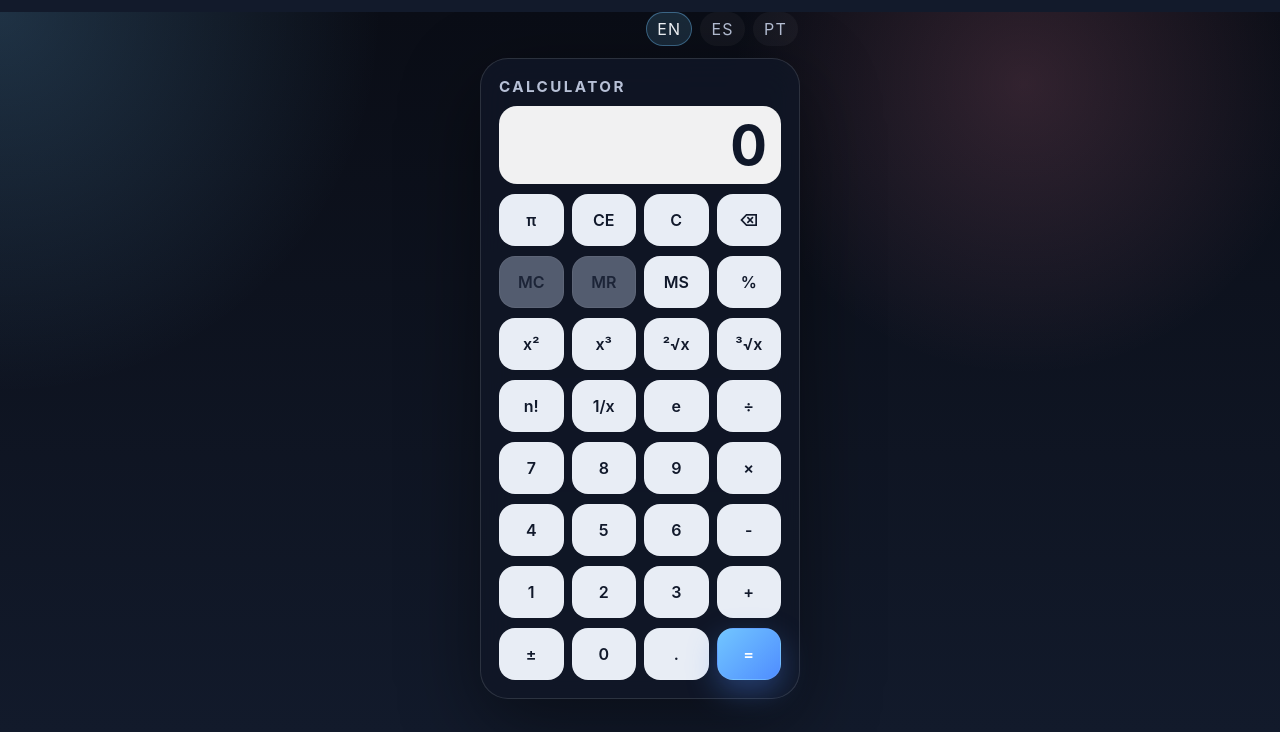
Calculator › supports memory store, recall, and clear
Step 1. Click the button "7" → point(531, 468), box [499,442,564,494]
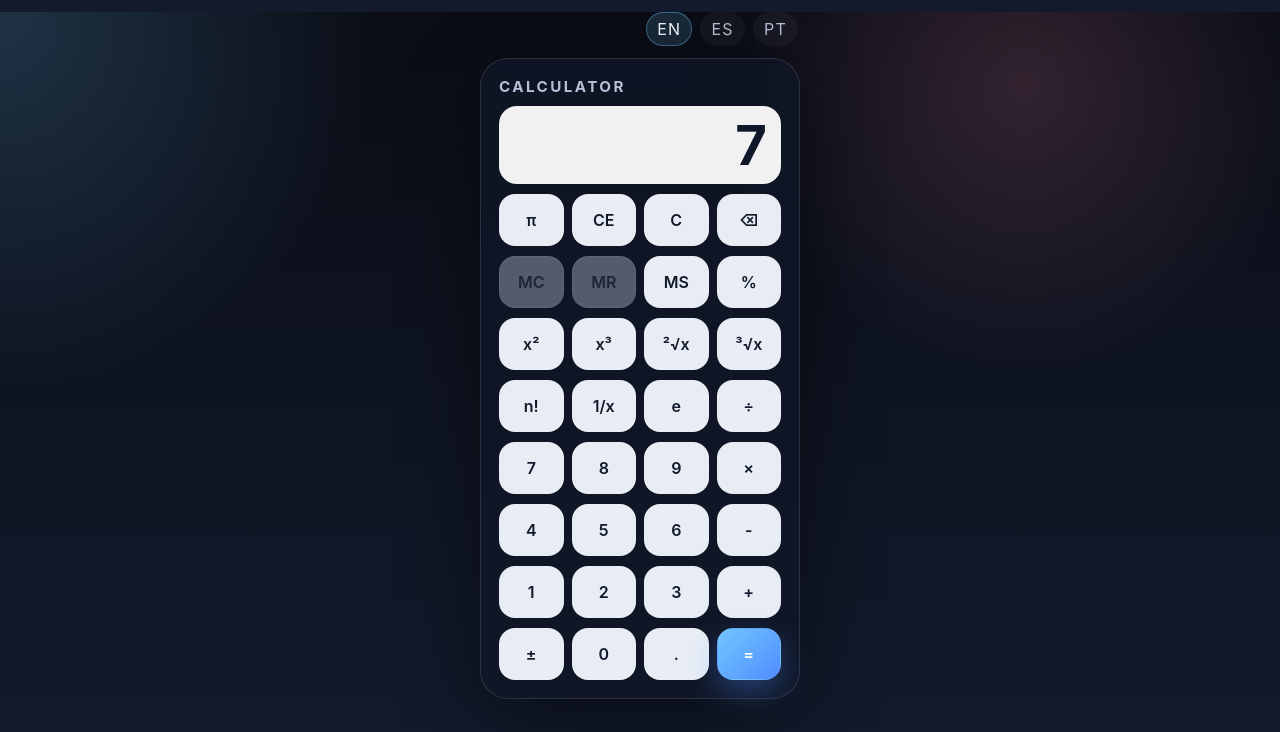
Step 2. Click the button "MS" → point(676, 282), box [644,256,708,308]
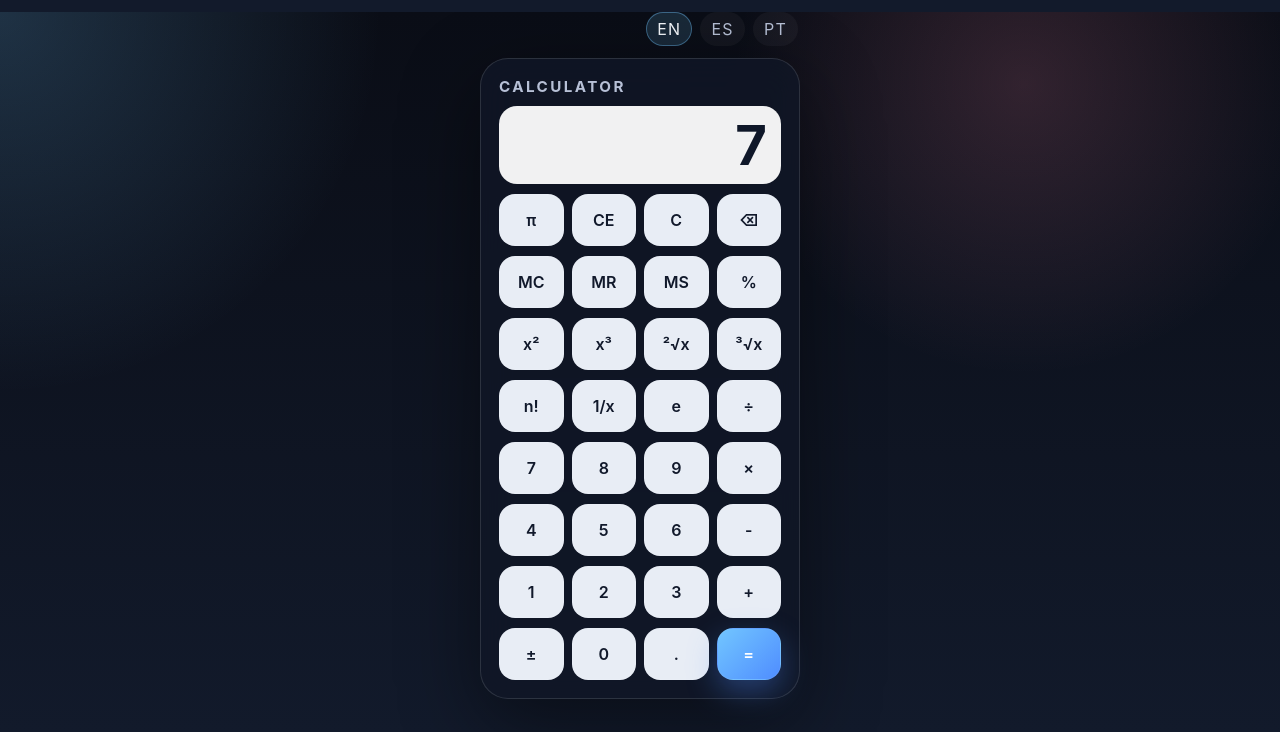
Step 3. Click the button "C" → point(676, 220), box [644,194,708,246]
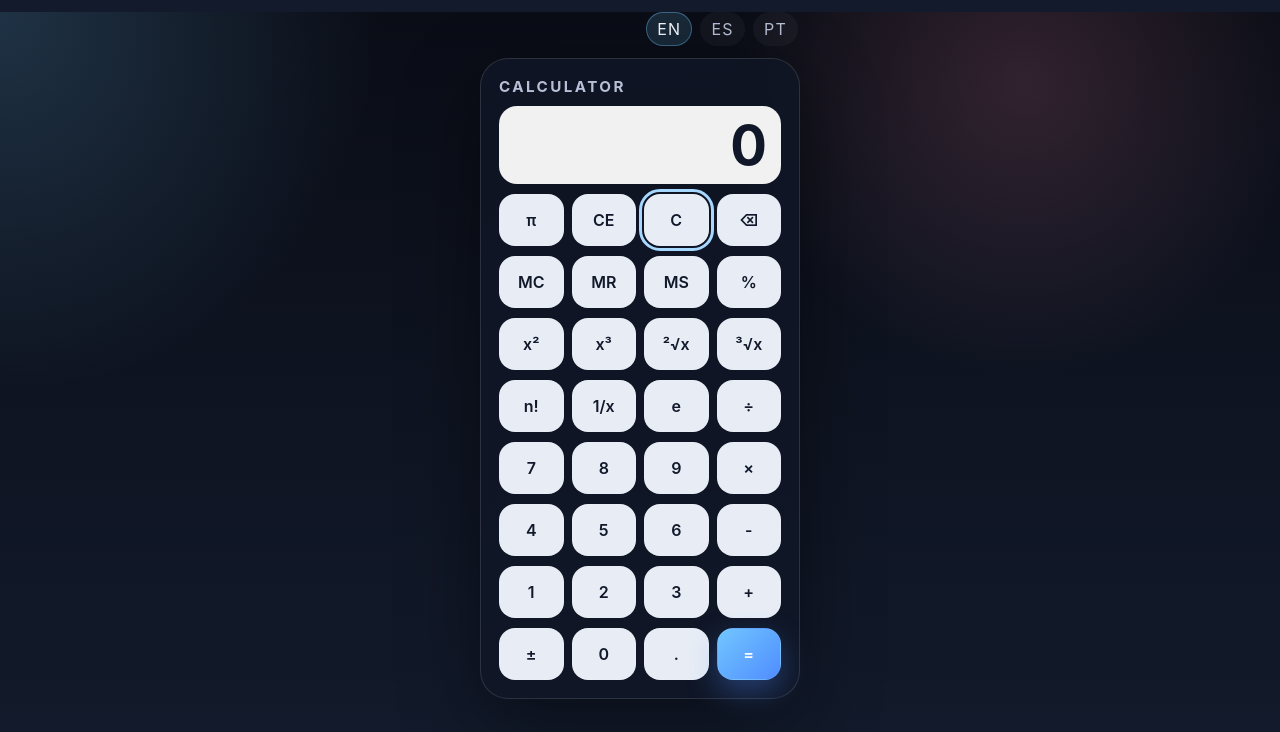
Now the message reads "0", box [730,112,767,178]
Step 4. Click the button "MR" → point(604, 282), box [572,256,636,308]
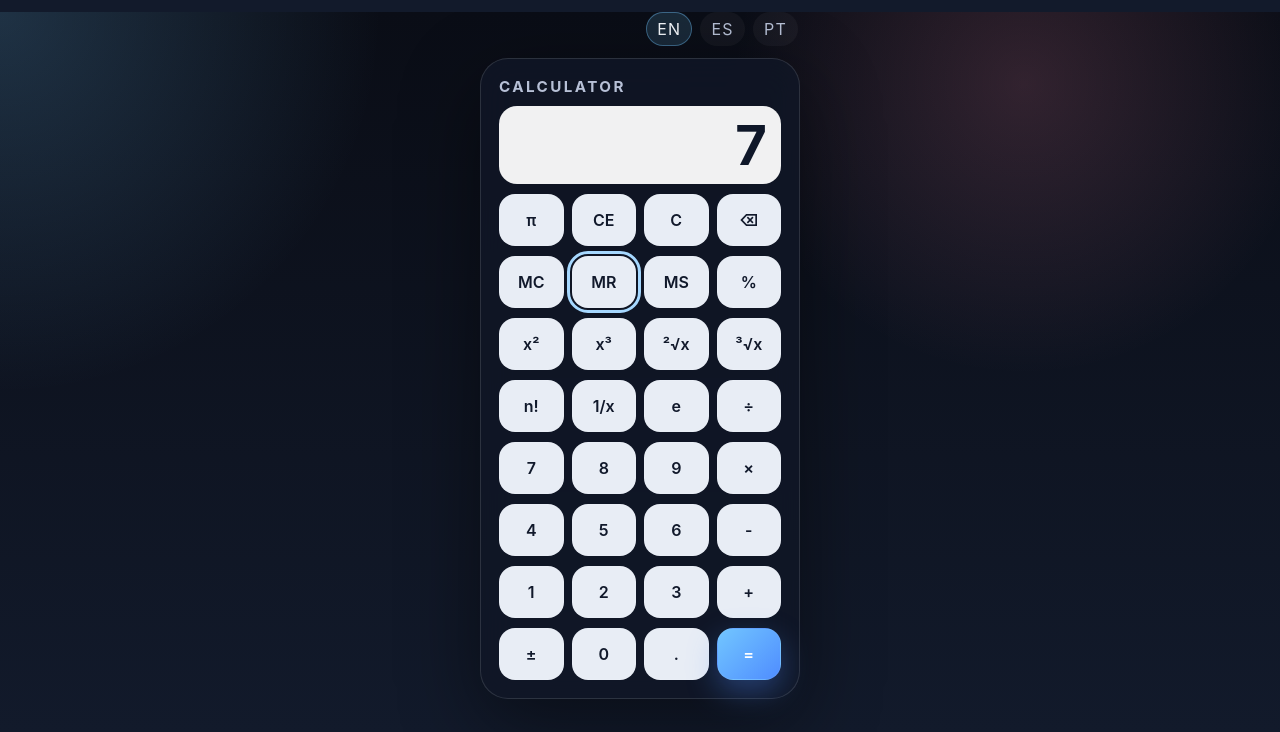
Now the message reads "7", box [735,112,767,178]
Step 5. Click the button "MC" → point(531, 282), box [499,256,564,308]
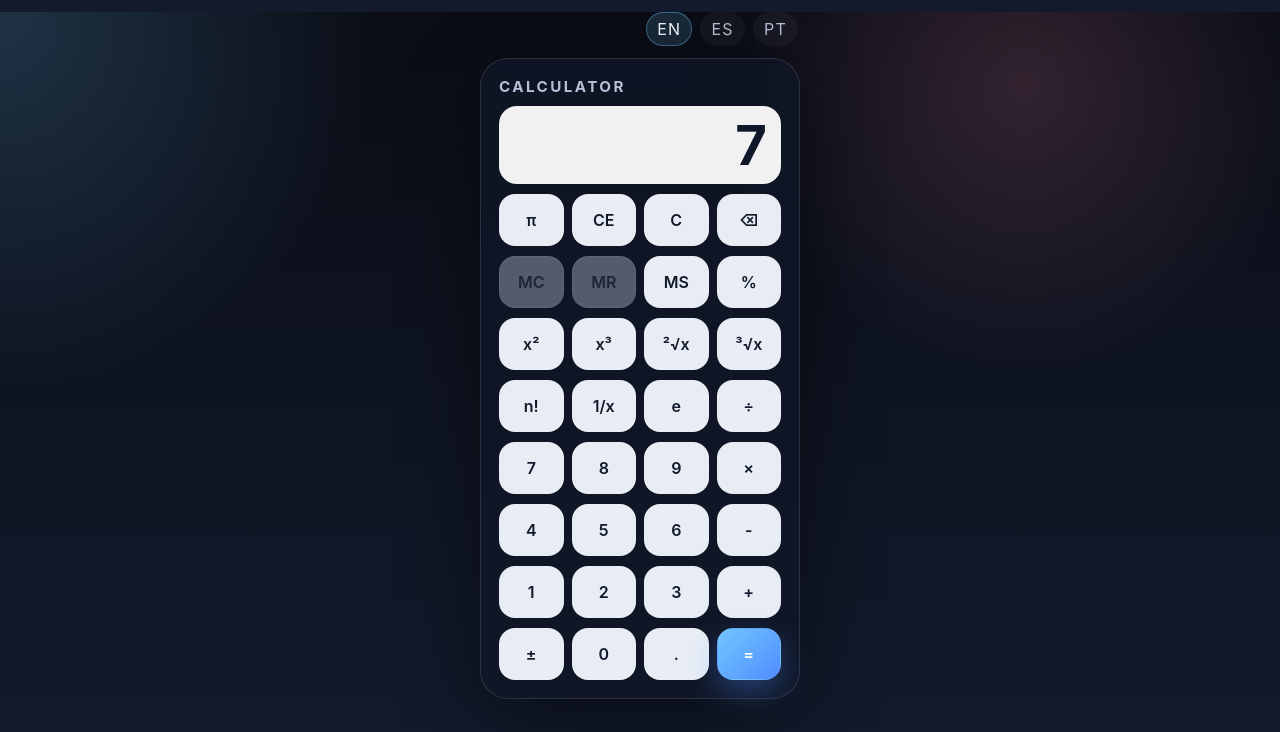
Now the button "MR" is disabled, box [572,256,636,308]
